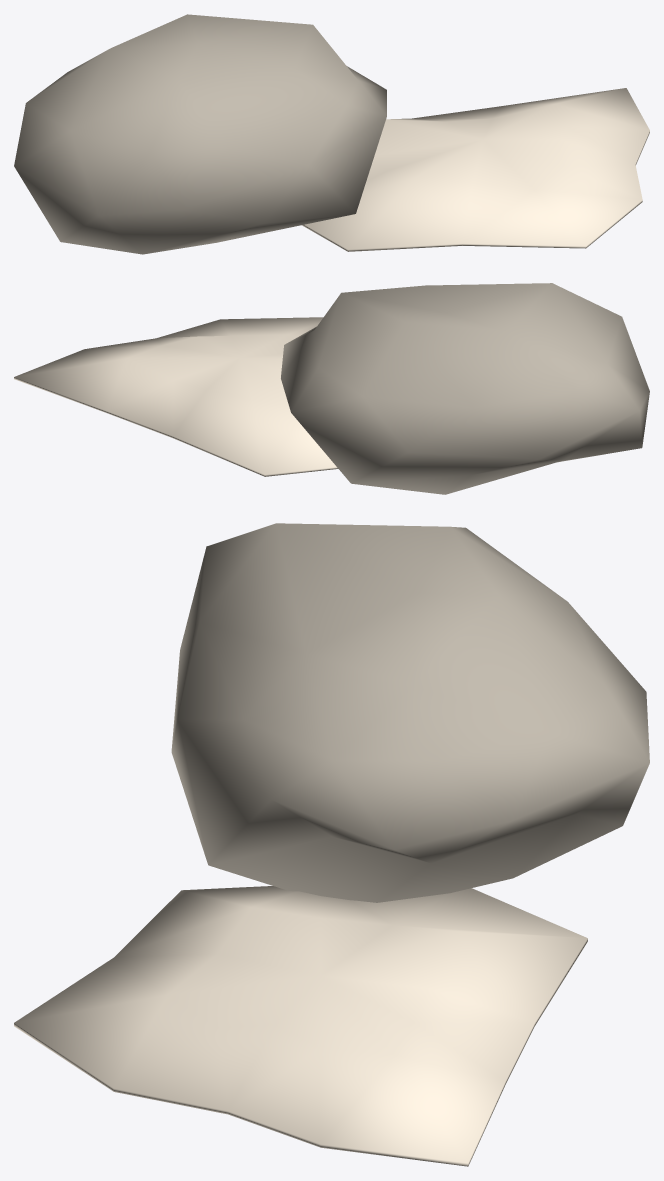
Rendered from SM_VKI_Overlay_Debris_Sack.fbx.
3 renders of one model, top to bottom at view 1: azimuth 30°, elevation 25°; view 2: azimuth 150°, elevation 25°; view 3: azimuth 270°, elevation 25°, orthographic. The views are drawn at different scales.
Parts seen in each view (by area): view 1: SM_VKI_Overlay_Debris_Sack.001; view 2: SM_VKI_Overlay_Debris_Sack.001; view 3: SM_VKI_Overlay_Debris_Sack.001.
Boxes of the visible parts, x1,y1,x2,y2 form: SM_VKI_Overlay_Debris_Sack.001: (14,14,649,254); SM_VKI_Overlay_Debris_Sack.001: (14,283,649,494); SM_VKI_Overlay_Debris_Sack.001: (14,523,649,1166).
Size of the model in its own units: 0.8744 by 0.2594 by 0.5029.
